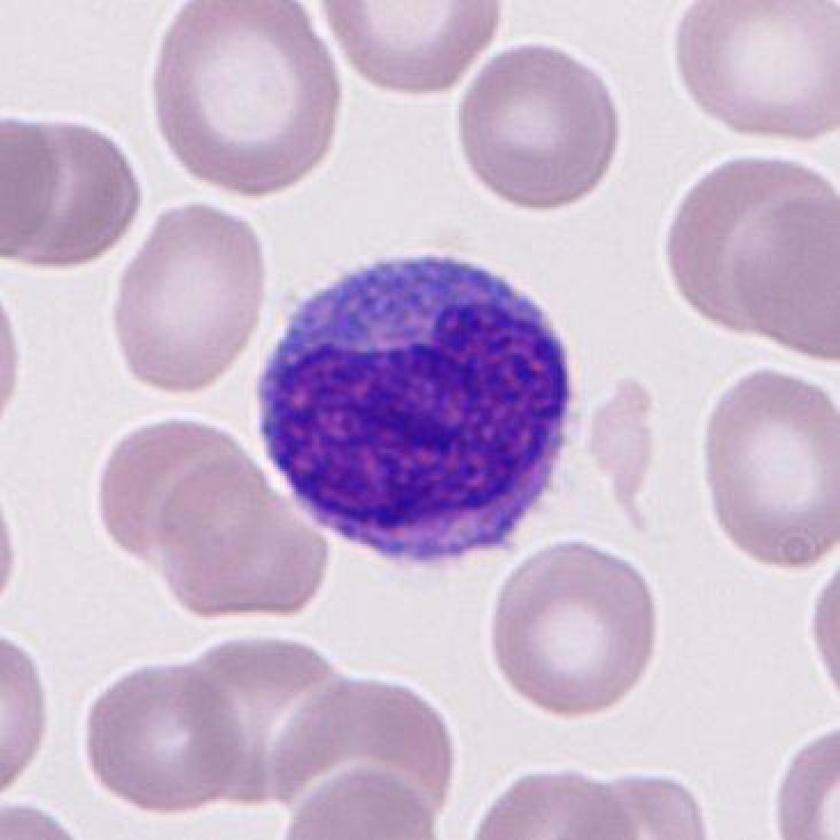monocyte: (242, 247, 593, 579)
